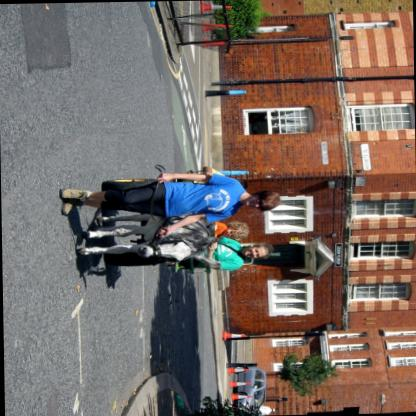Animal: (74, 210, 224, 270)
